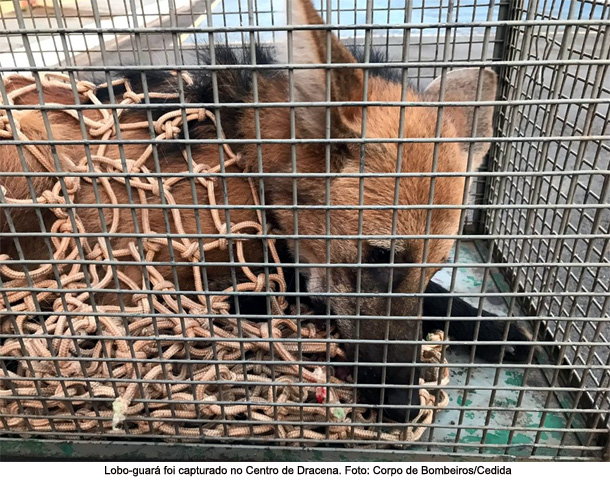LoboGuara: (19, 11, 515, 428)
